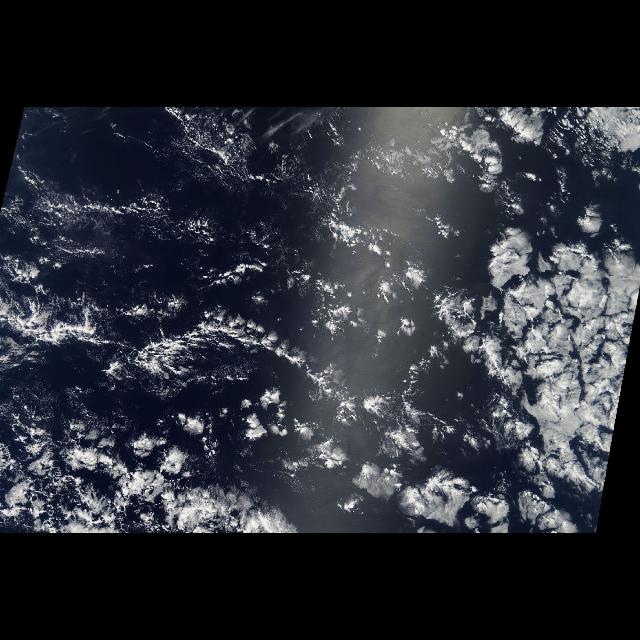Flower: (122, 222, 640, 522)
